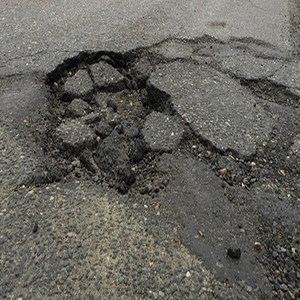pothole: (38, 44, 180, 203)
